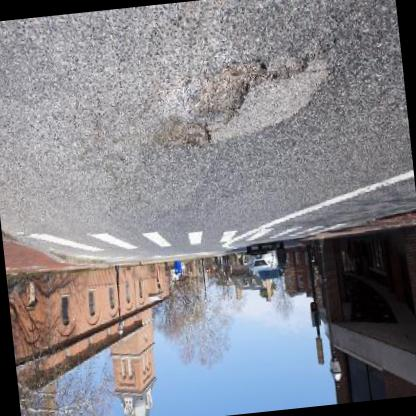pothole: (197, 52, 274, 124), (150, 115, 214, 156)
